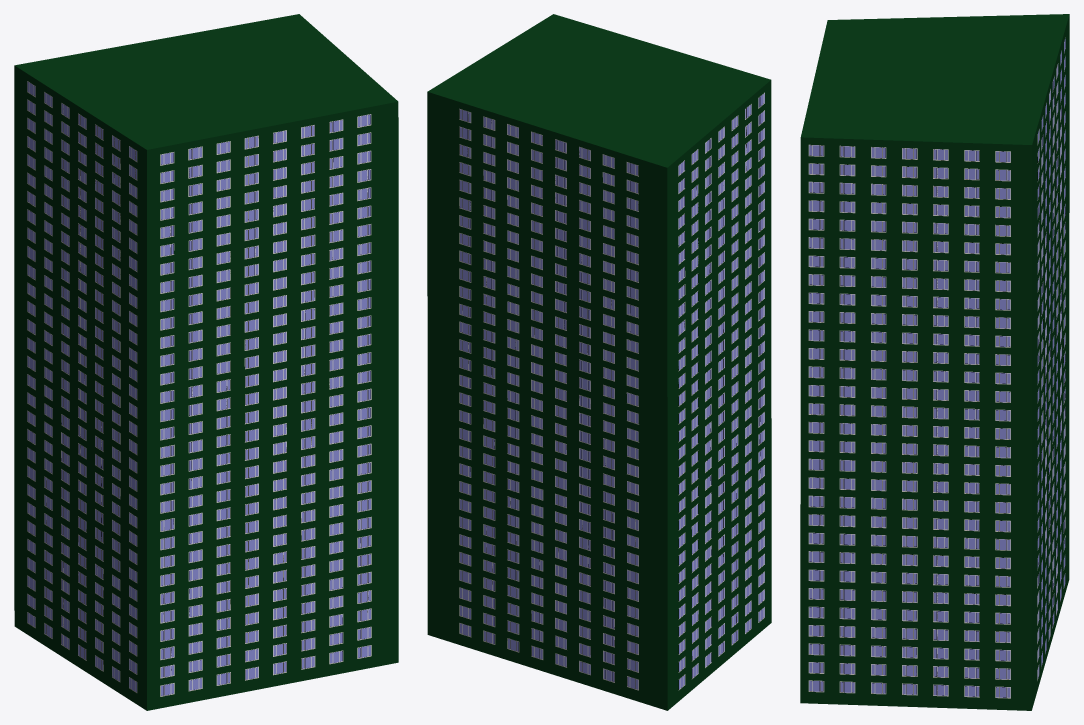
Rendered from TwoHalifax.fbx.
The picture shows the model from 3 angles, left to right: view 1: azimuth 30°, elevation 25°; view 2: azimuth 150°, elevation 25°; view 3: azimuth 270°, elevation 25°; orthographic projection. The views are drawn at different scales.
Parts seen in each view (by area): view 1: TwoHalifax, Window.001, Window.002; view 2: TwoHalifax, Window.003, Window.002; view 3: TwoHalifax, Window, Window.003.
Boxes of the visible parts, box(x1,y1,x2,y2) form: TwoHalifax: box(14, 14, 398, 710); Window.001: box(160, 114, 371, 696); Window.002: box(27, 81, 137, 692); TwoHalifax: box(427, 14, 771, 710); Window.003: box(459, 108, 638, 690); Window.002: box(678, 92, 764, 690); TwoHalifax: box(800, 14, 1069, 710); Window: box(808, 144, 1010, 698); Window.003: box(1037, 37, 1065, 680).
Size of the model in its own units: 49.71 by 100 by 43.12.
